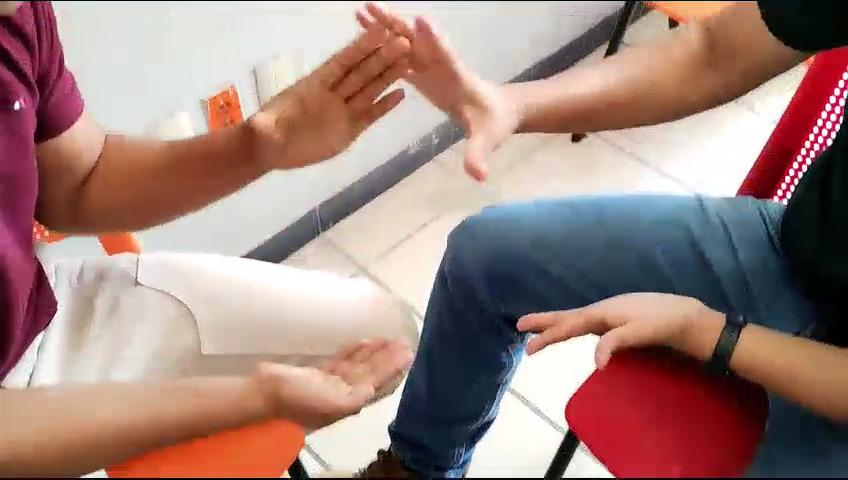Paper: (341, 0, 539, 206), (251, 30, 409, 174)
